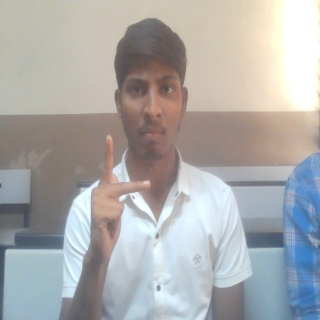Okay: (87, 133, 152, 258)
